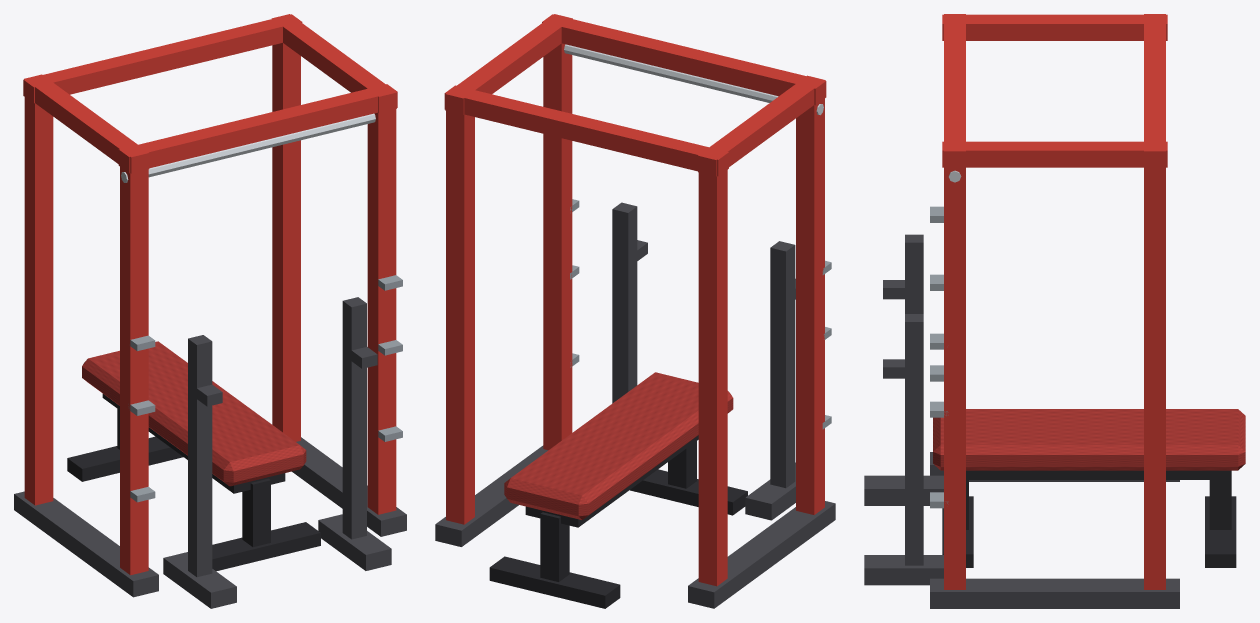
The model's file is MogLife_GymStations.fbx.
3 renders of one model, left to right at view 1: azimuth 30°, elevation 25°; view 2: azimuth 150°, elevation 25°; view 3: azimuth 270°, elevation 25°, orthographic. The views are drawn at different scales.
Visible parts, largest first — view 1: SquatRack, BenchPress; view 2: SquatRack, BenchPress; view 3: SquatRack, BenchPress.
Part boxes in pixels (x1,y1,x2,y2): SquatRack: (14,14,406,597); BenchPress: (67,297,391,608); SquatRack: (435,14,835,608); BenchPress: (489,202,795,608); SquatRack: (930,14,1179,608); BenchPress: (864,234,1245,585).
Bounding box in the file's own units: 5.3 × 8.05 × 6.1.
Materials: 1 (1 with a texture image).
